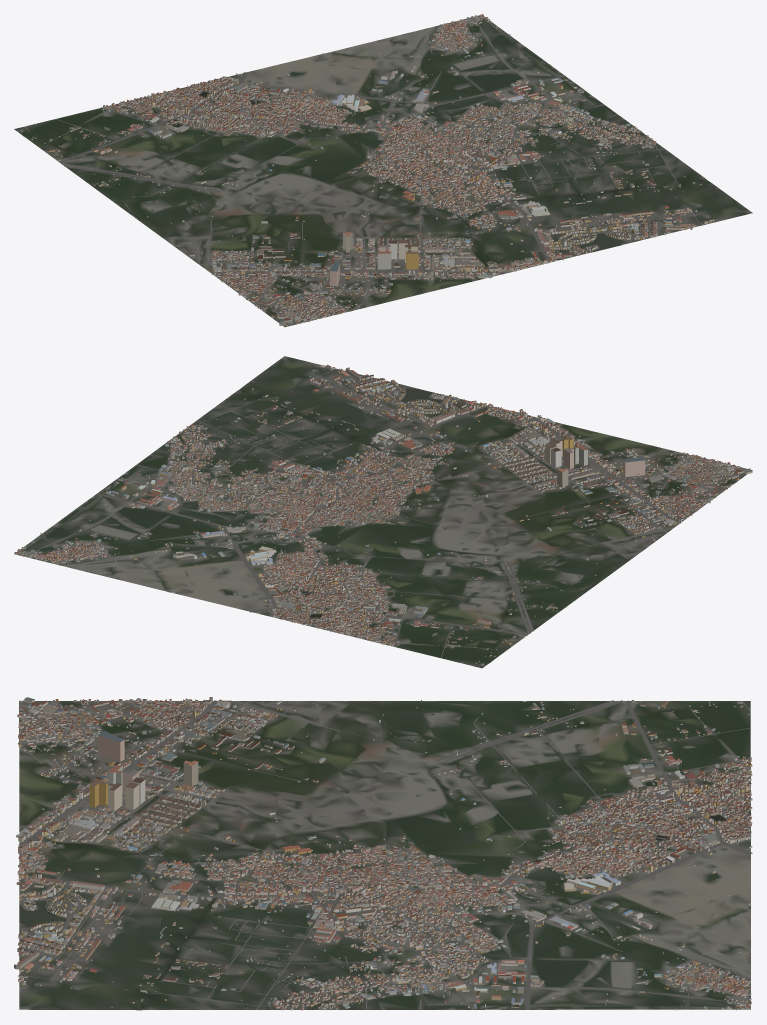
3 views of the same model, one above another, from view 1: azimuth 30°, elevation 25°; view 2: azimuth 150°, elevation 25°; view 3: azimuth 270°, elevation 25° (orthographic). The views are drawn at different scales.
Parts seen in each view (by area): view 1: ground, buildings, roads, water; view 2: ground, buildings, roads, water; view 3: ground, buildings, roads, water.
Part boxes in pixels (x1,y1,x2,y2): ground: (14, 16, 752, 327); buildings: (20, 14, 716, 326); roads: (18, 17, 700, 325); water: (33, 56, 706, 266); ground: (14, 356, 752, 668); buildings: (14, 364, 752, 665); roads: (30, 368, 745, 665); water: (120, 388, 580, 656); ground: (19, 700, 750, 1010); buildings: (14, 697, 752, 1010); roads: (18, 700, 752, 1009); water: (19, 703, 726, 1008).
Size of the model in its own units: 2819 by 96.11 by 2832.
